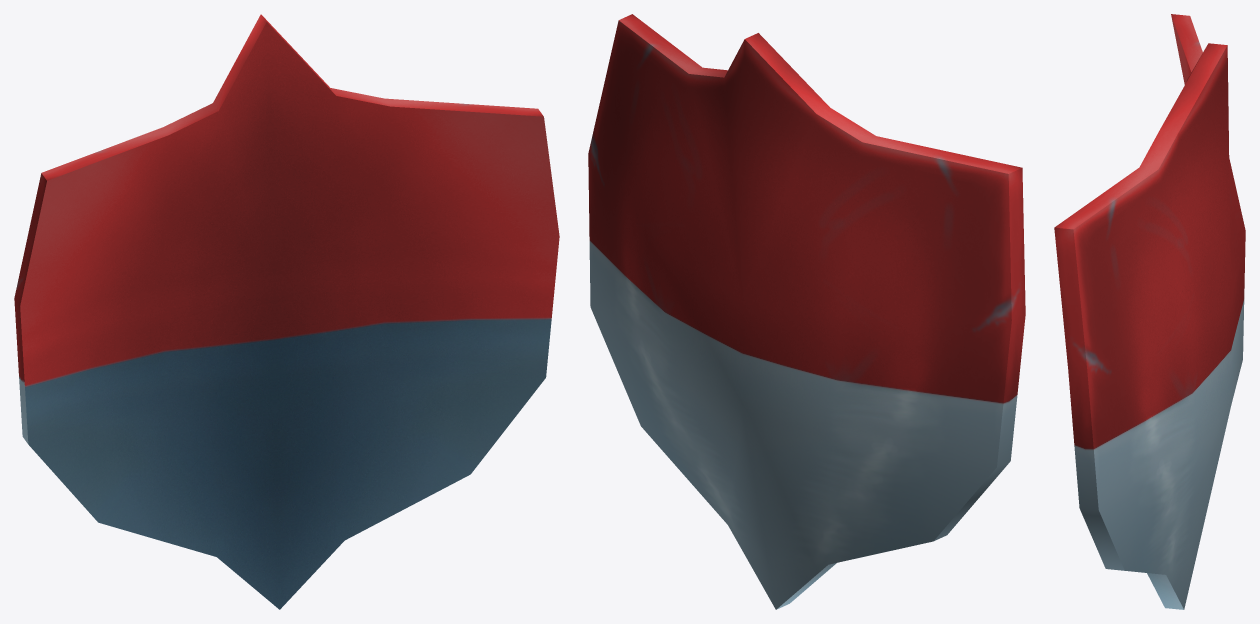
Rendered from BK_shield.fbx.
3 renders of one model, left to right at view 1: azimuth 30°, elevation 25°; view 2: azimuth 150°, elevation 25°; view 3: azimuth 270°, elevation 25°, orthographic. The views are drawn at different scales.
Visible parts, largest first — view 1: base2; view 2: base2; view 3: base2.
Part boxes in pixels (x1,y1,x2,y2): base2: [14, 14, 559, 609]; base2: [588, 14, 1025, 609]; base2: [1054, 14, 1245, 609].
Size of the model in its own units: 58.38 by 66.26 by 20.2.
Materials: 1 (1 with a texture image).
